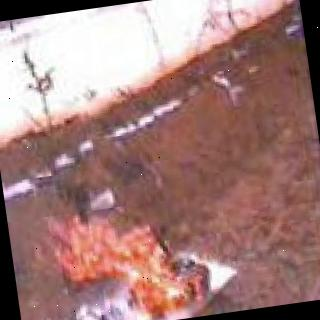fire: (38, 192, 211, 320)
